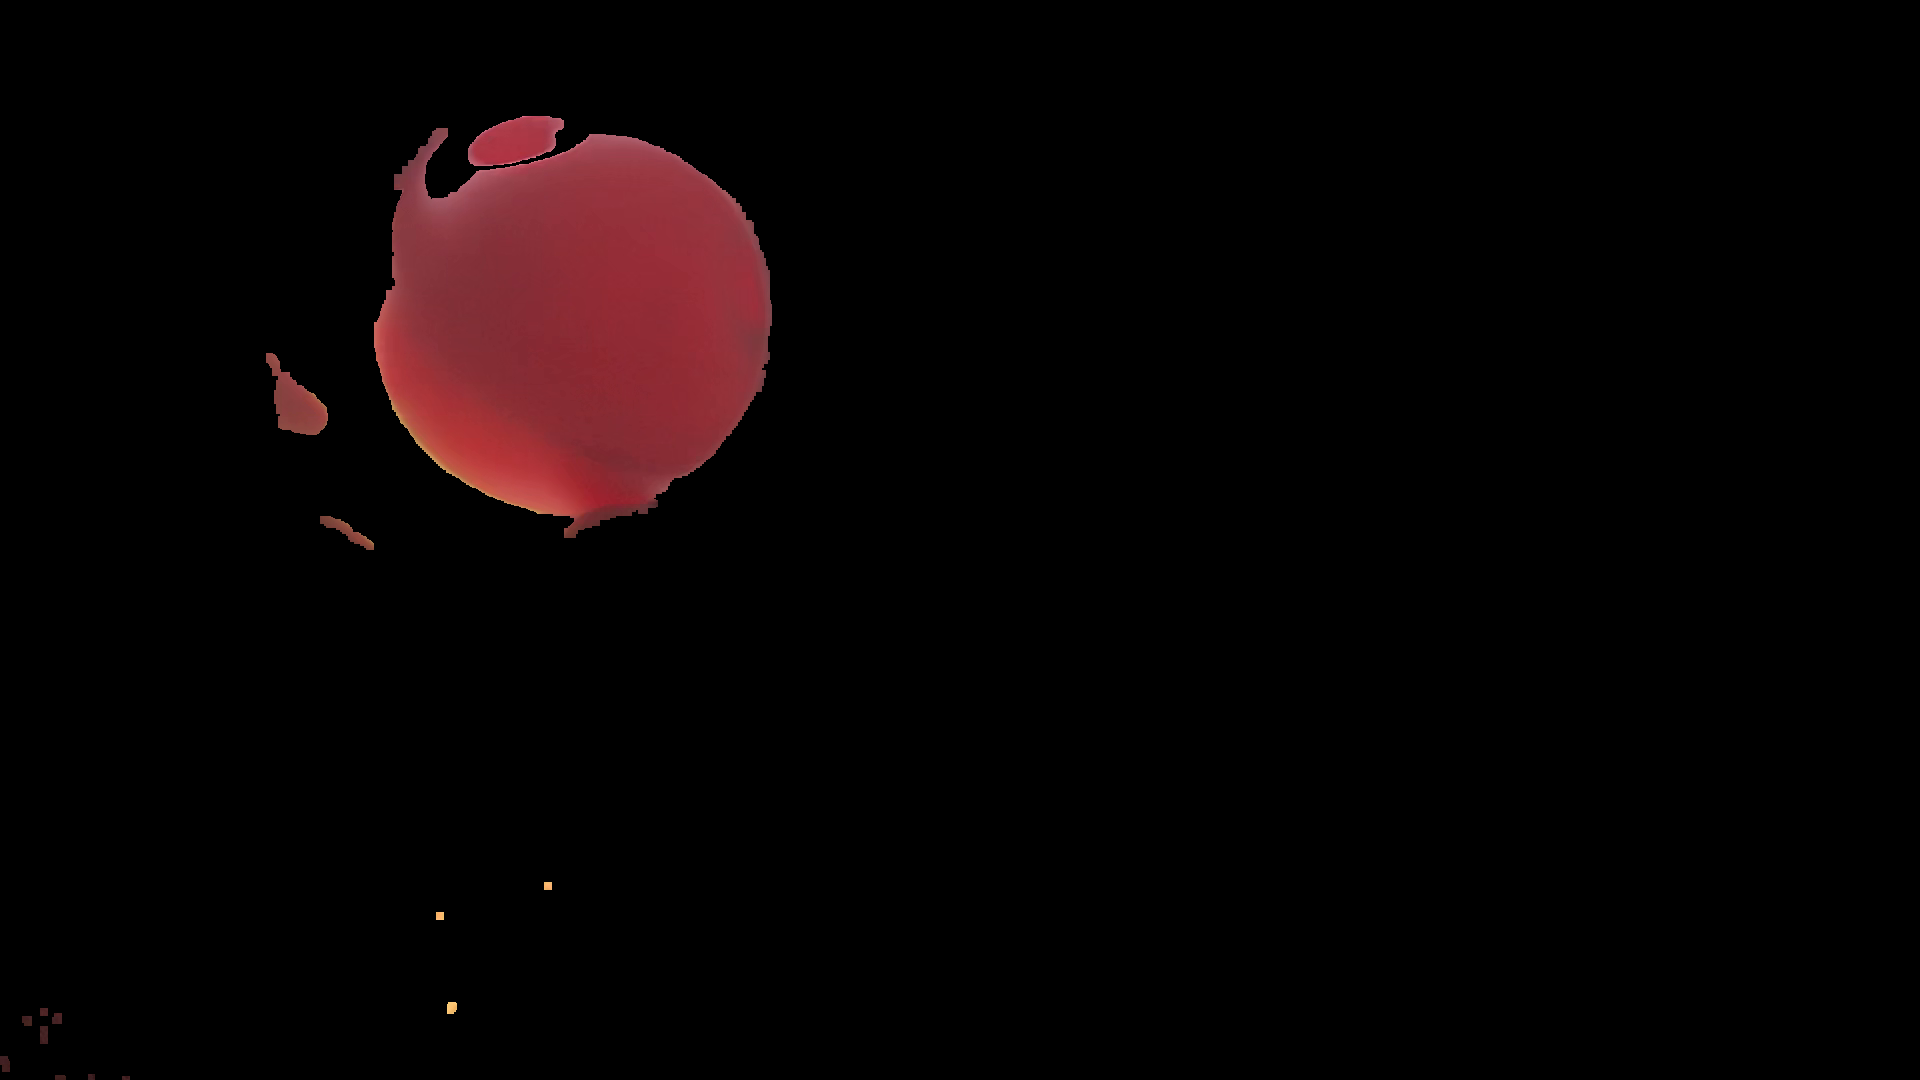Ball: (368, 103, 781, 522)
